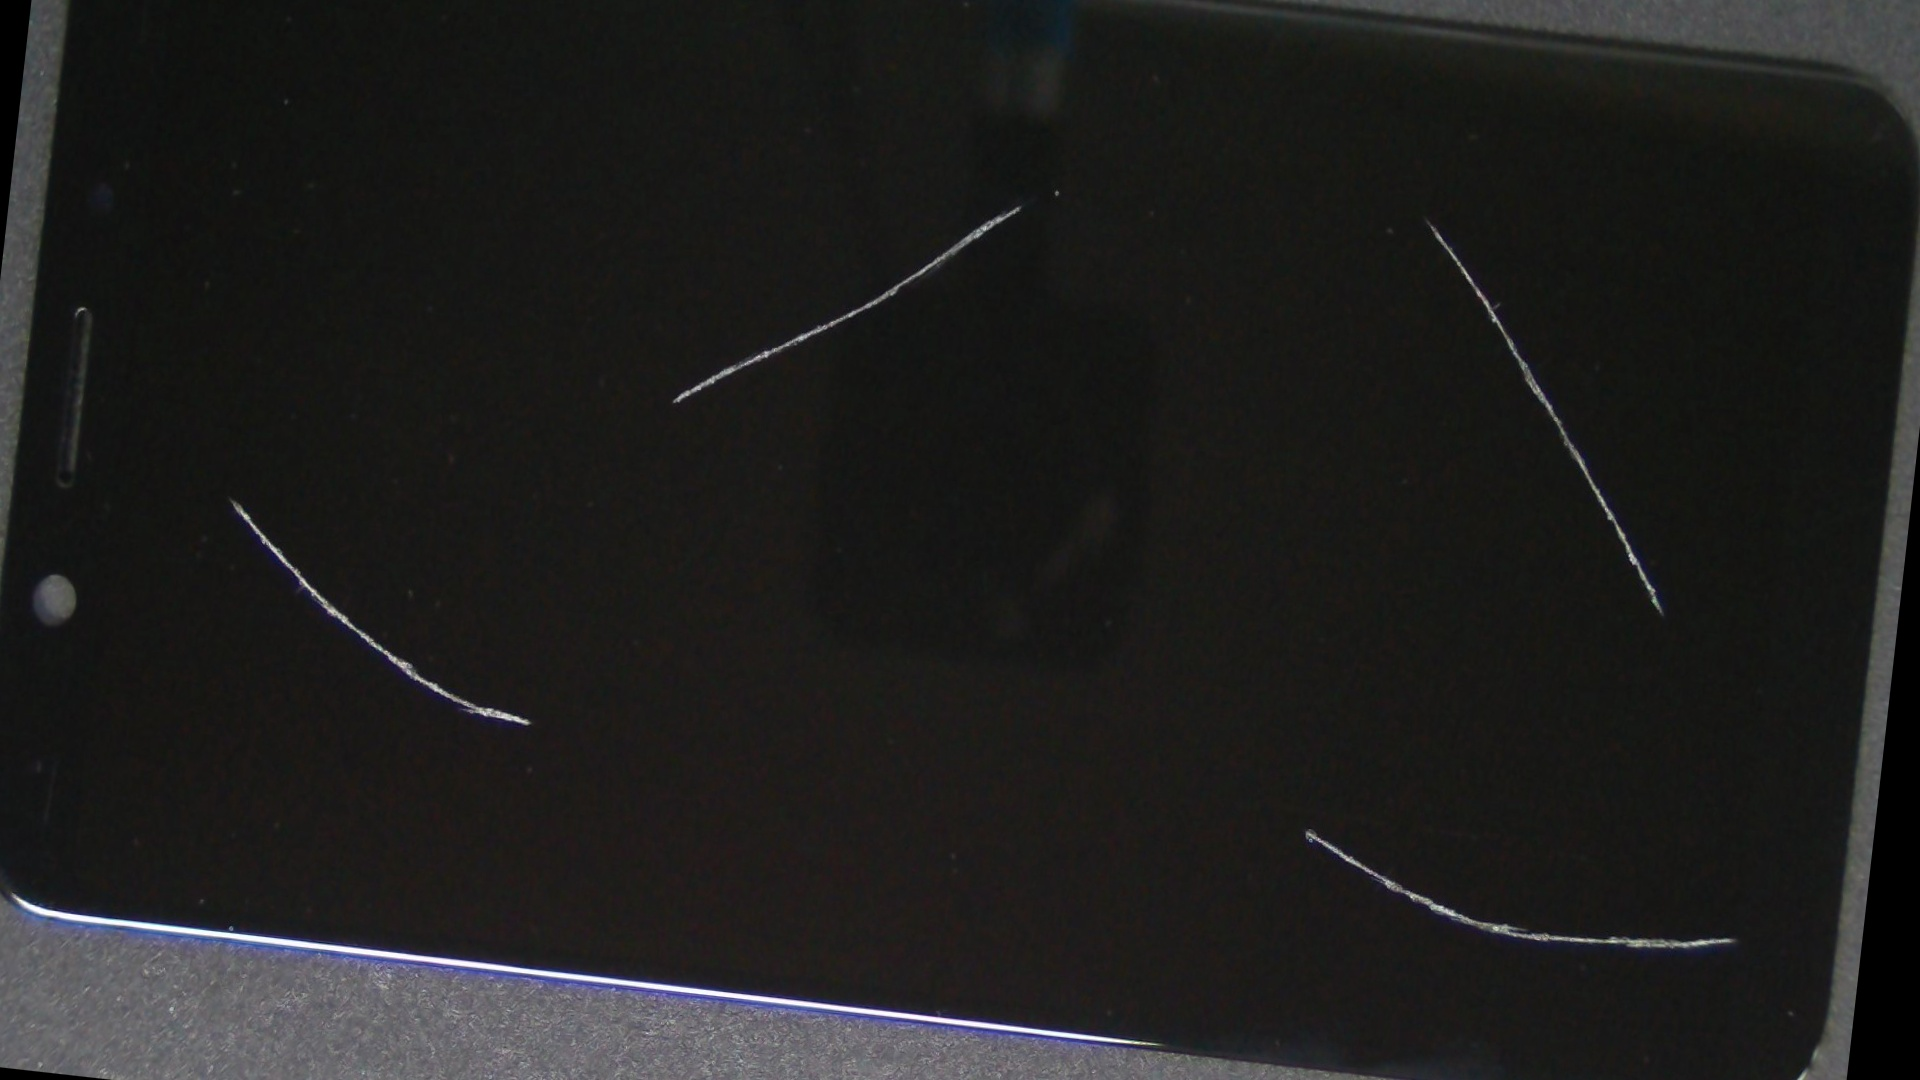oil: (589, 302, 1919, 1080), (708, 0, 1920, 421), (504, 0, 1539, 421), (65, 135, 393, 857)
